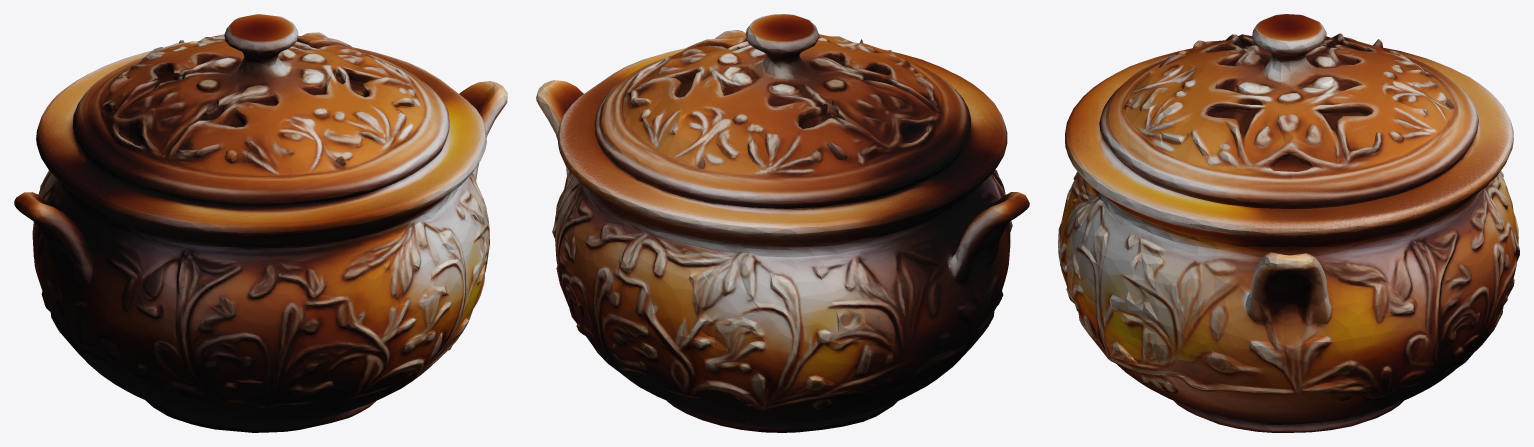
The model's file is clay-cooking-pot-organic hi-res.jpeg.glb.
The picture shows the model from 3 angles, left to right: view 1: azimuth 30°, elevation 25°; view 2: azimuth 150°, elevation 25°; view 3: azimuth 270°, elevation 25°; orthographic projection.
Parts seen in each view (by area): view 1: world; view 2: world; view 3: world.
Part boxes in pixels (x1=…): world: x1=14, y1=14, x2=507, y2=432; world: x1=536, y1=14, x2=1029, y2=432; world: x1=1058, y1=14, x2=1519, y2=432.
Bounding box in the file's own units: 1 × 0.7017 × 0.83.
Materials: 1 (1 with a texture image).
